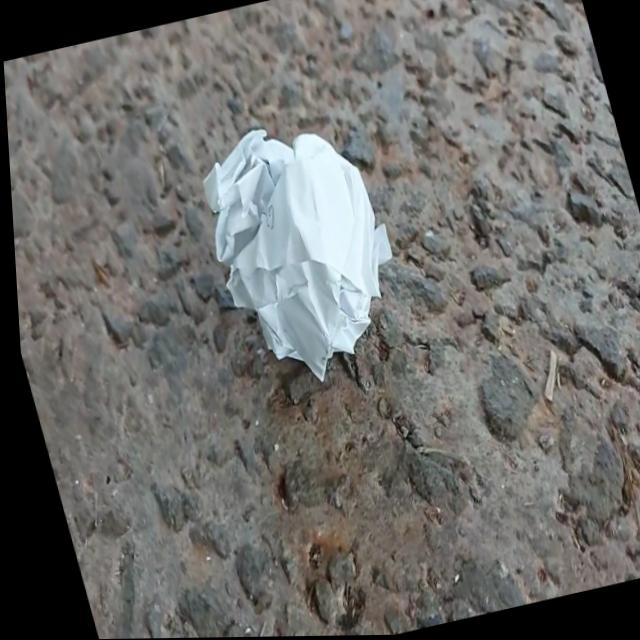paper: (168, 94, 437, 399)
